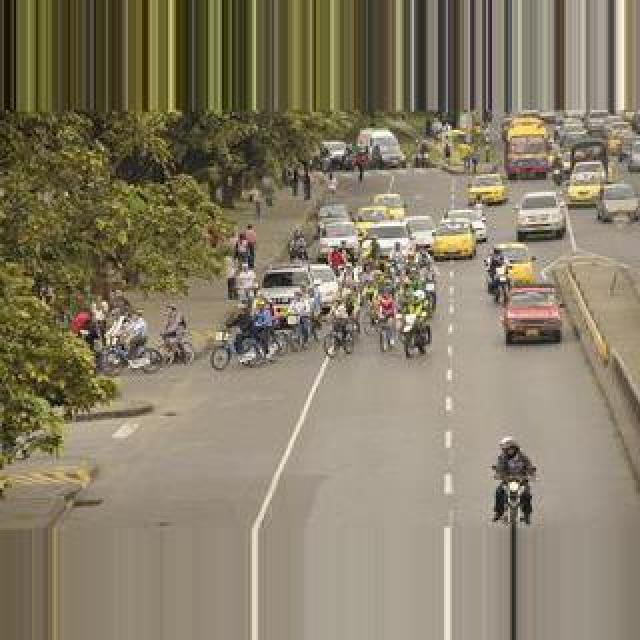Bike: (355, 130, 403, 170)
Bolan-Bike: (502, 116, 556, 180)
Bus-Bike: (500, 286, 564, 346), (260, 262, 318, 314), (514, 190, 566, 240), (488, 244, 536, 296), (562, 162, 606, 208), (594, 182, 640, 224), (430, 220, 478, 260), (466, 174, 508, 206), (404, 216, 436, 248)
Emergency Vehicles-Bike: (492, 470, 534, 526), (488, 270, 512, 306)
MC-Bike: (492, 436, 536, 520), (372, 288, 400, 348)
Person: (210, 326, 280, 370), (100, 336, 164, 376), (324, 318, 356, 358), (376, 310, 396, 352)
